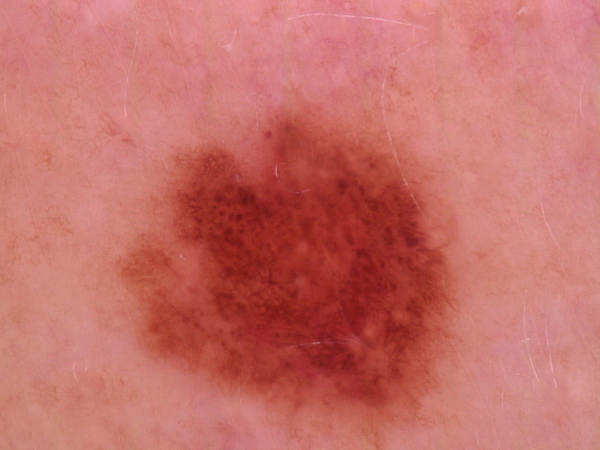Detected Lesion: (105, 105, 463, 429)
